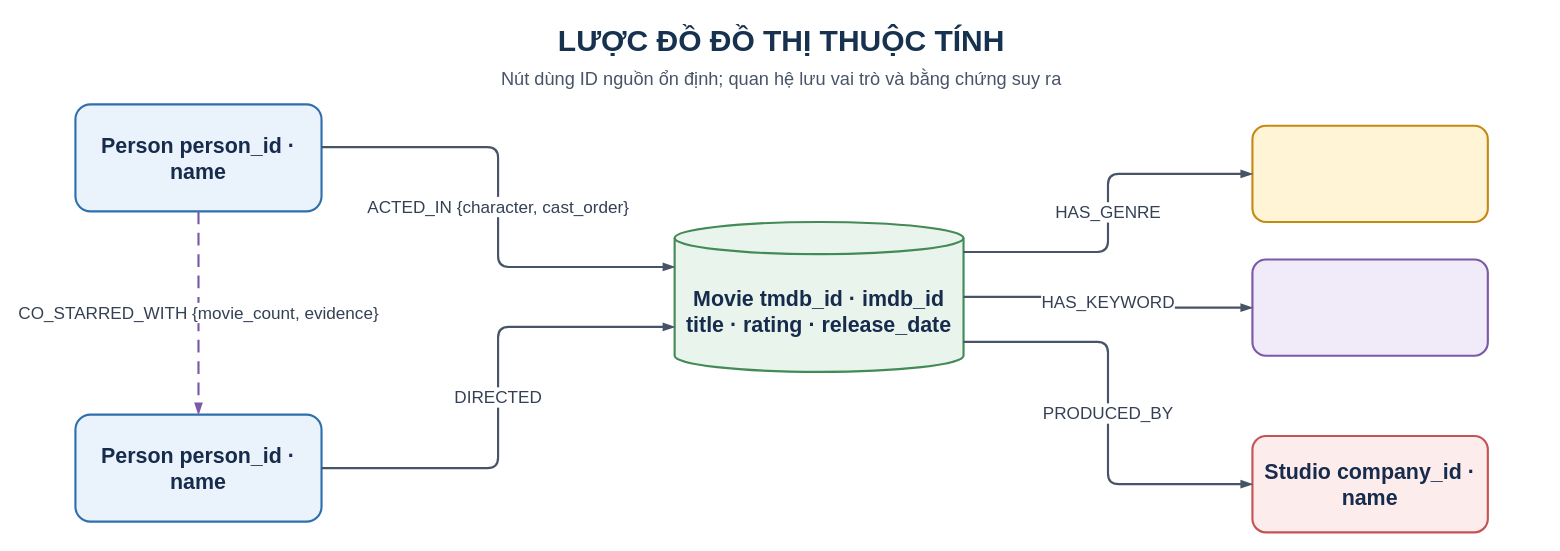
Image size: 1560x551. Some labels were removed from this diagram. Here are the shapes that lost their labels. From the top down, the box of each, then its label:
(1251, 124, 1488, 223): Genre genre_id · name
(1251, 258, 1488, 356): Keyword keyword_id · name
